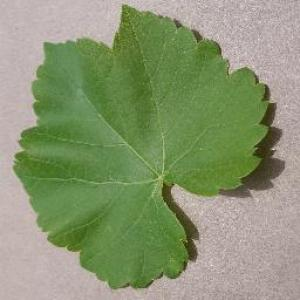Folha: (12, 2, 275, 291)
